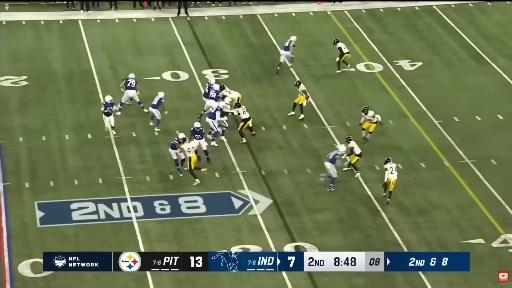Helmet: (336, 144, 346, 152), (362, 106, 369, 114), (194, 122, 201, 130), (178, 133, 186, 140), (346, 136, 353, 143), (218, 102, 226, 108), (105, 96, 113, 102), (234, 102, 242, 108), (219, 85, 227, 91), (212, 84, 220, 90), (295, 80, 301, 87), (384, 158, 391, 164), (290, 36, 297, 42), (208, 78, 215, 84), (333, 39, 339, 45), (158, 92, 164, 98), (128, 74, 134, 78)
Jersey: (182, 140, 198, 156), (384, 163, 397, 181), (362, 111, 381, 123), (327, 150, 343, 164), (235, 106, 250, 119), (102, 102, 115, 117), (208, 107, 222, 120), (222, 90, 240, 100), (348, 141, 361, 154), (170, 137, 183, 150), (190, 128, 204, 140), (151, 96, 163, 109), (124, 78, 137, 90), (207, 89, 221, 100), (202, 83, 212, 98), (336, 43, 349, 53), (283, 40, 294, 51), (298, 84, 305, 94)
Player: (117, 74, 148, 115), (320, 145, 346, 191), (182, 140, 206, 185), (198, 79, 220, 121), (234, 102, 255, 143), (207, 102, 226, 146), (190, 122, 210, 163), (288, 80, 309, 119), (343, 136, 362, 177), (360, 106, 382, 141), (169, 134, 187, 175), (277, 36, 296, 74), (216, 100, 233, 141), (383, 158, 397, 204), (333, 39, 351, 72), (150, 92, 164, 131), (102, 96, 115, 134), (220, 85, 241, 105)
